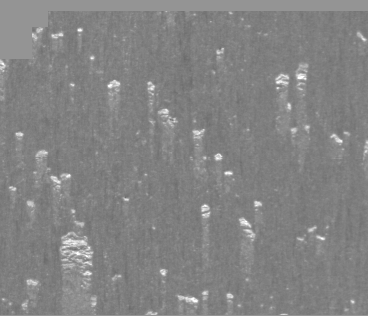oxl: (35, 10, 333, 306)
